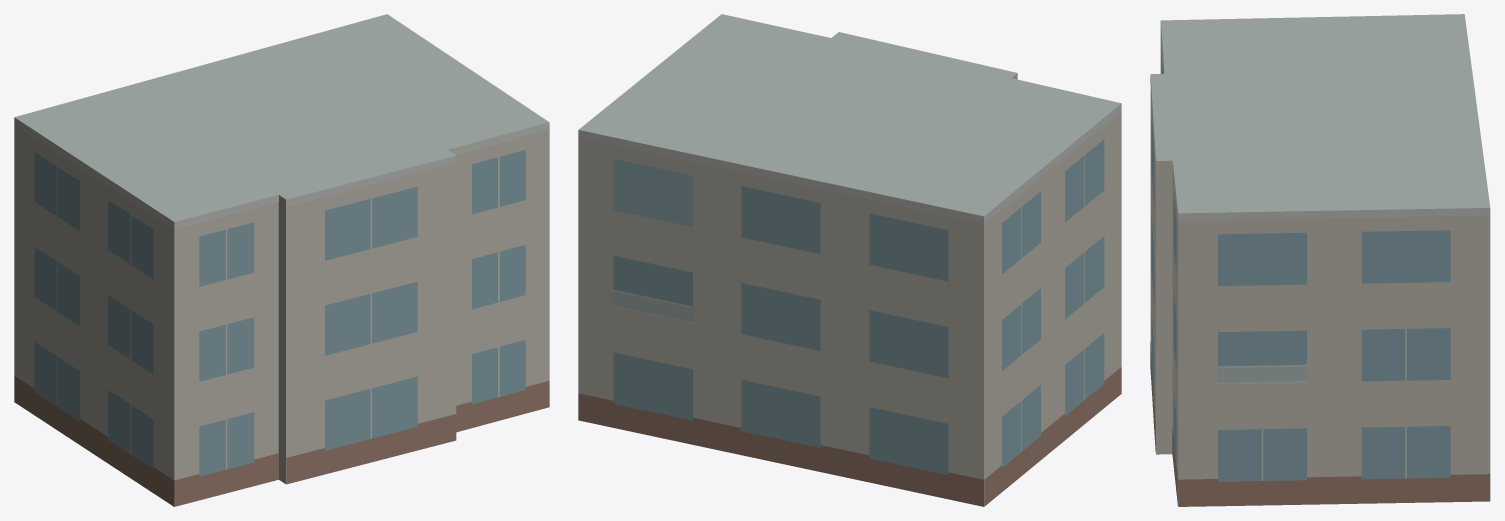
File: survey-upis-32706859.glb
3 renders of one model, left to right at view 1: azimuth 30°, elevation 25°; view 2: azimuth 150°, elevation 25°; view 3: azimuth 270°, elevation 25°, orthographic. The views are drawn at different scales.
Parts seen in each view (by area): view 1: survey-upis-32706859.tmp; view 2: survey-upis-32706859.tmp; view 3: survey-upis-32706859.tmp.
Part boxes in pixels (<box>): survey-upis-32706859.tmp: <box>14,14,549,506</box>; survey-upis-32706859.tmp: <box>578,14,1121,506</box>; survey-upis-32706859.tmp: <box>1150,14,1490,506</box>.
Bounding box in the file's own units: 13.33 × 9.15 × 9.61.
